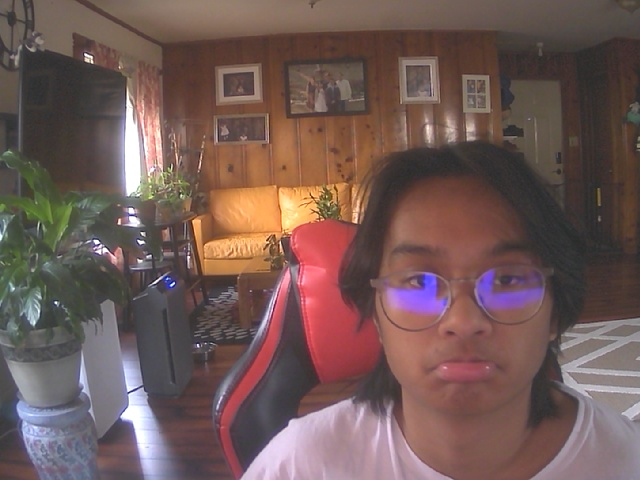sad: (359, 154, 564, 421)
